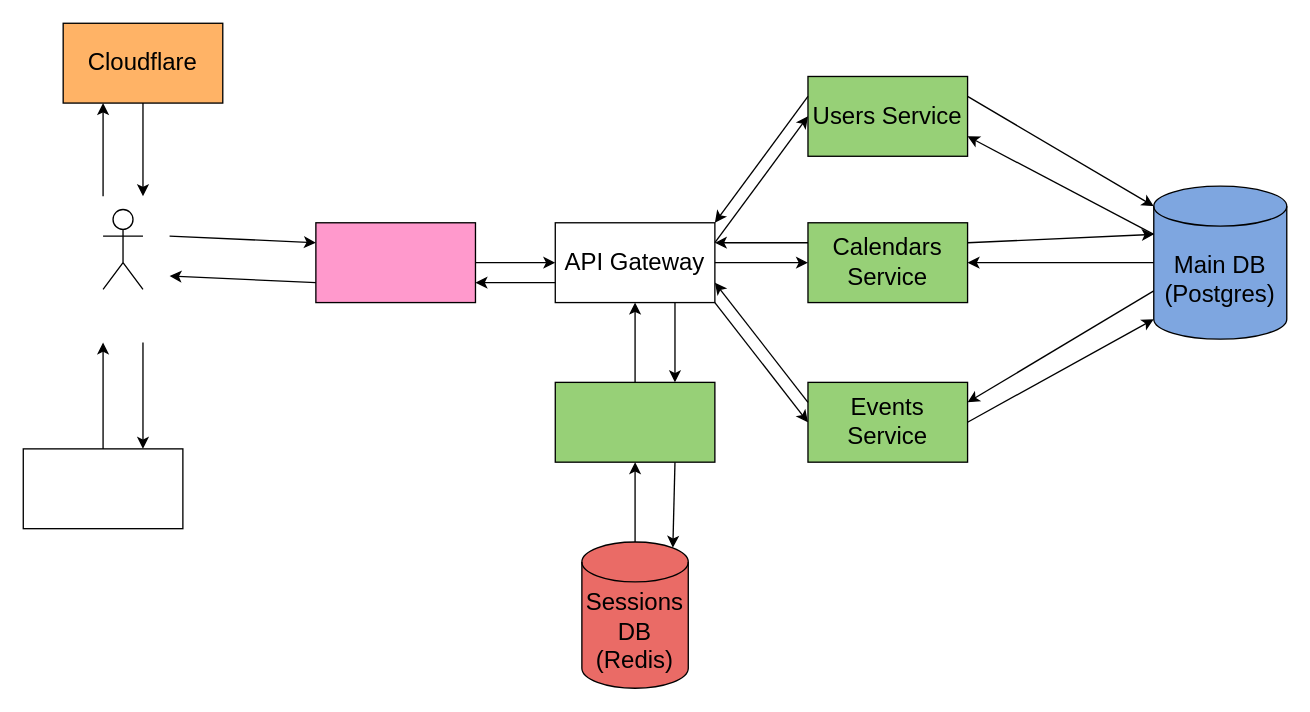
Some shapes in this 1310 by 712 pixel diagram are drawn without their labels. The centre of each missing label's shape, as x and y in pixels:
"Actor" goes at (x=122, y=248).
"Auth Service" goes at (x=634, y=421).
"DNS" goes at (x=102, y=488).
"Envoy" goes at (x=395, y=262).
